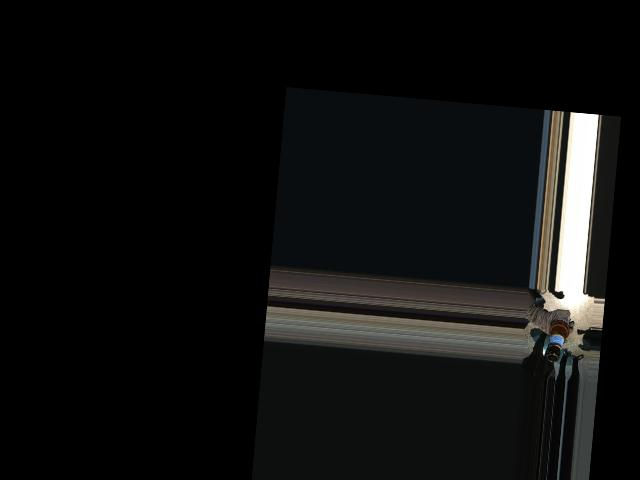beer: (545, 311, 572, 363)
